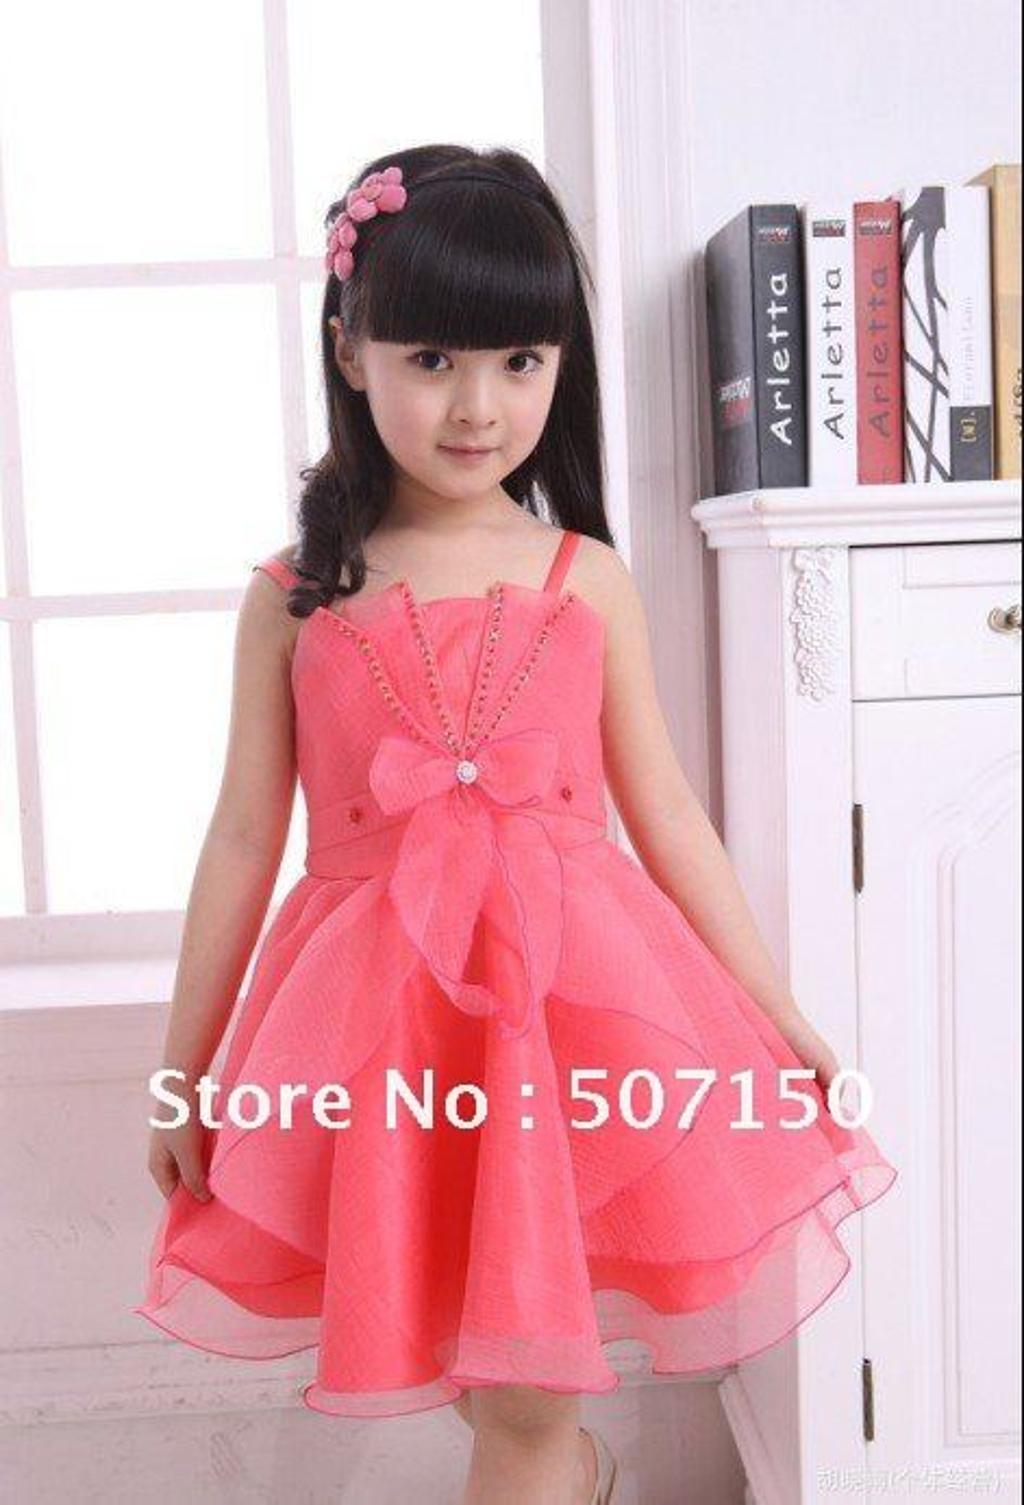face: (362, 224, 565, 498)
